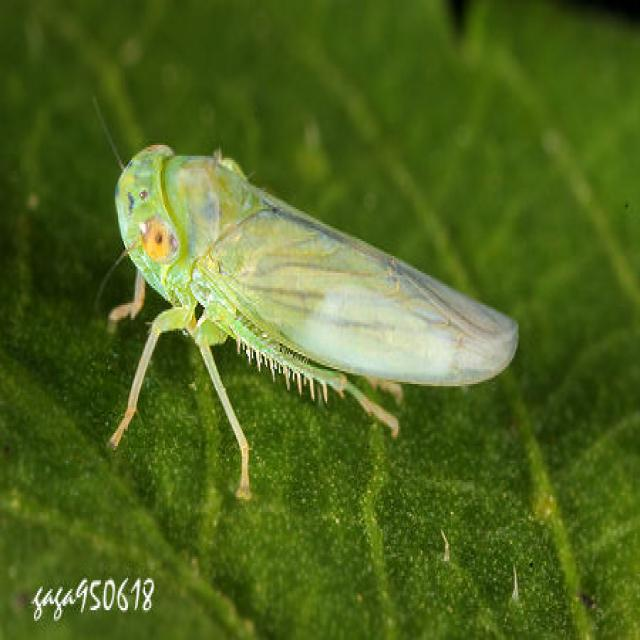Yechan: (104, 134, 528, 444)
